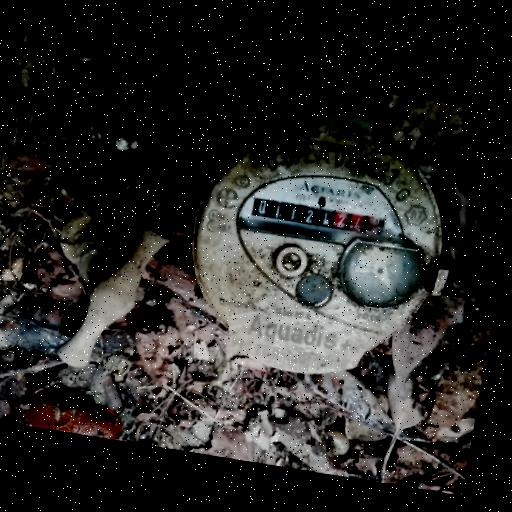0: (251, 197, 271, 218)
1: (268, 200, 288, 221), (285, 202, 305, 223), (318, 207, 336, 229)
2: (301, 205, 321, 226), (332, 210, 351, 231)
4: (349, 212, 369, 234)
8: (364, 216, 385, 237)
border_water_meter_number: (247, 193, 388, 240)
